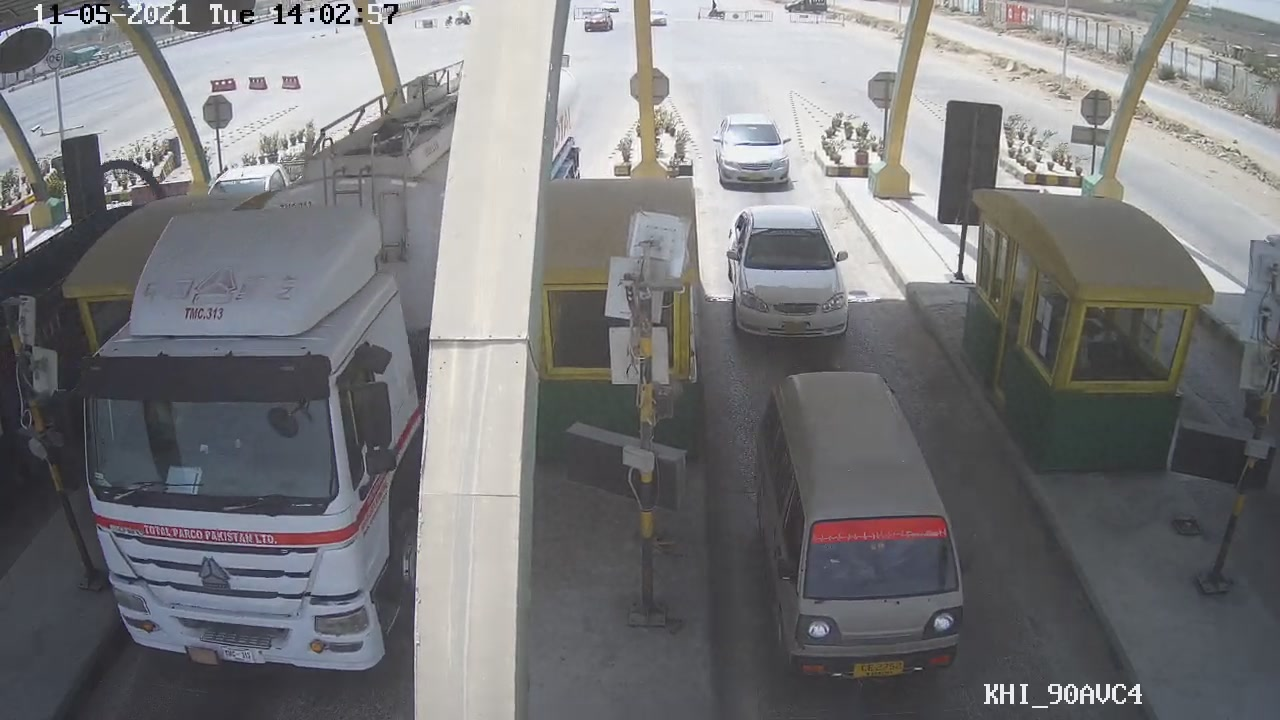F1: (722, 201, 851, 348)
F2: (749, 367, 974, 697)
